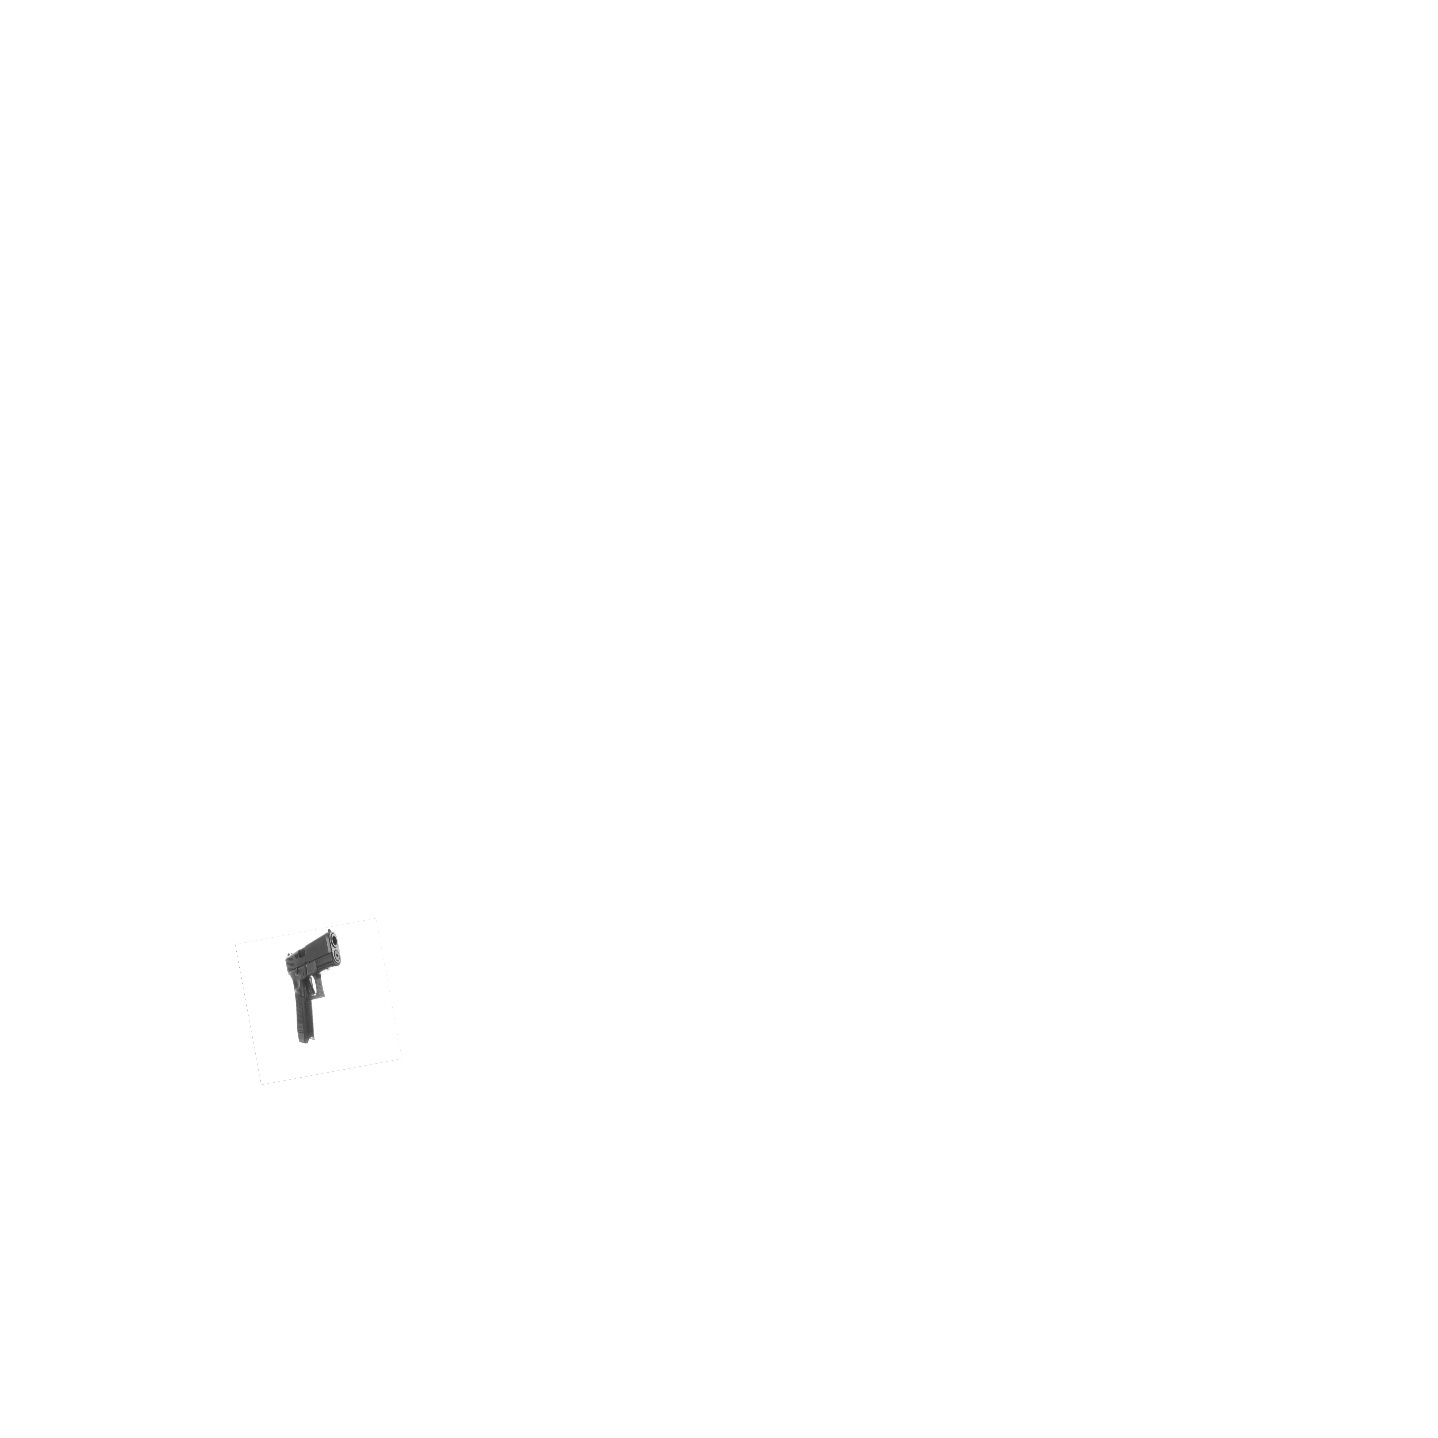gun: (282, 927, 353, 1044)
